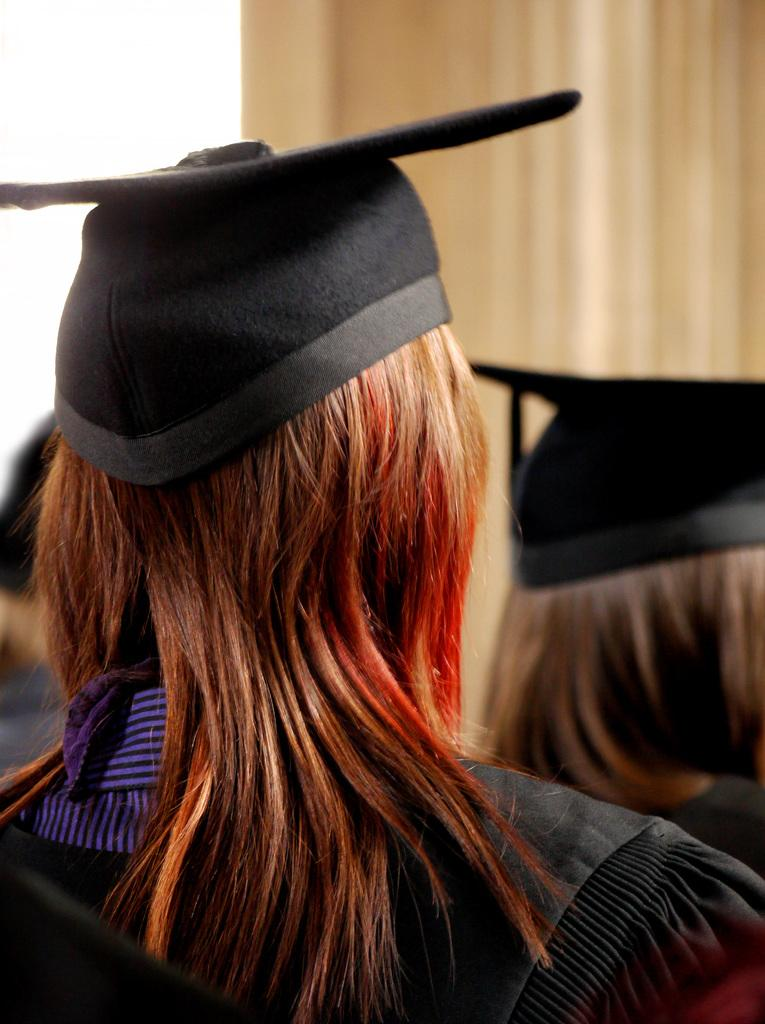Hat: (0, 86, 582, 489), (463, 352, 764, 586)
